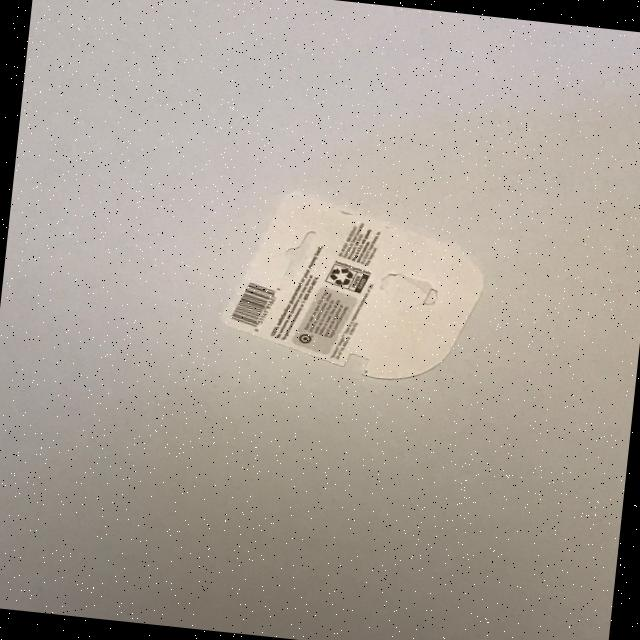paper: (214, 182, 492, 388)
